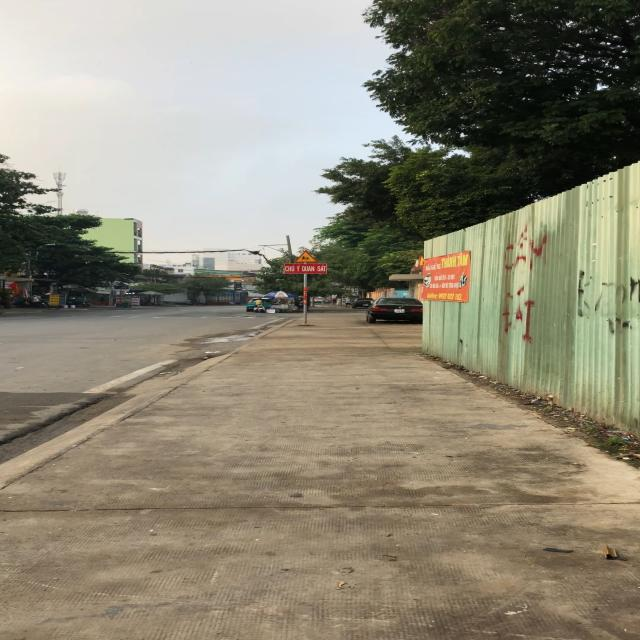Bien bao tre em: (294, 249, 320, 263)
